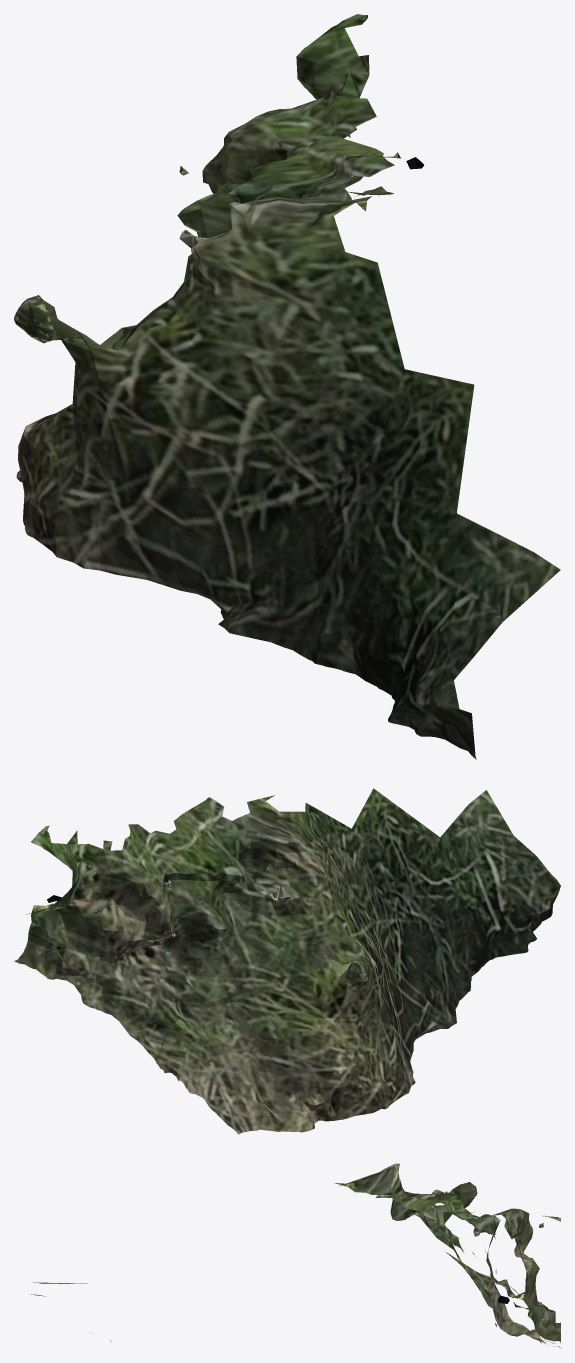
3 renders of one model, top to bottom at view 1: azimuth 30°, elevation 25°; view 2: azimuth 150°, elevation 25°; view 3: azimuth 270°, elevation 25°, orthographic. The views are drawn at different scales.
Bounding box in the file's own units: 1.11 × 0.8566 × 1.87.
Materials: 1 (1 with a texture image).
